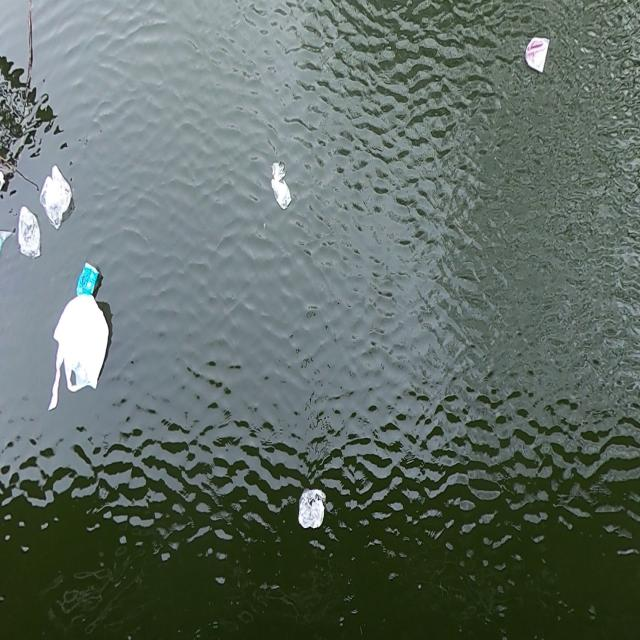Sac plastique: (40, 294, 114, 416), (40, 162, 76, 233), (296, 479, 330, 539), (266, 160, 298, 215), (17, 206, 45, 264)
